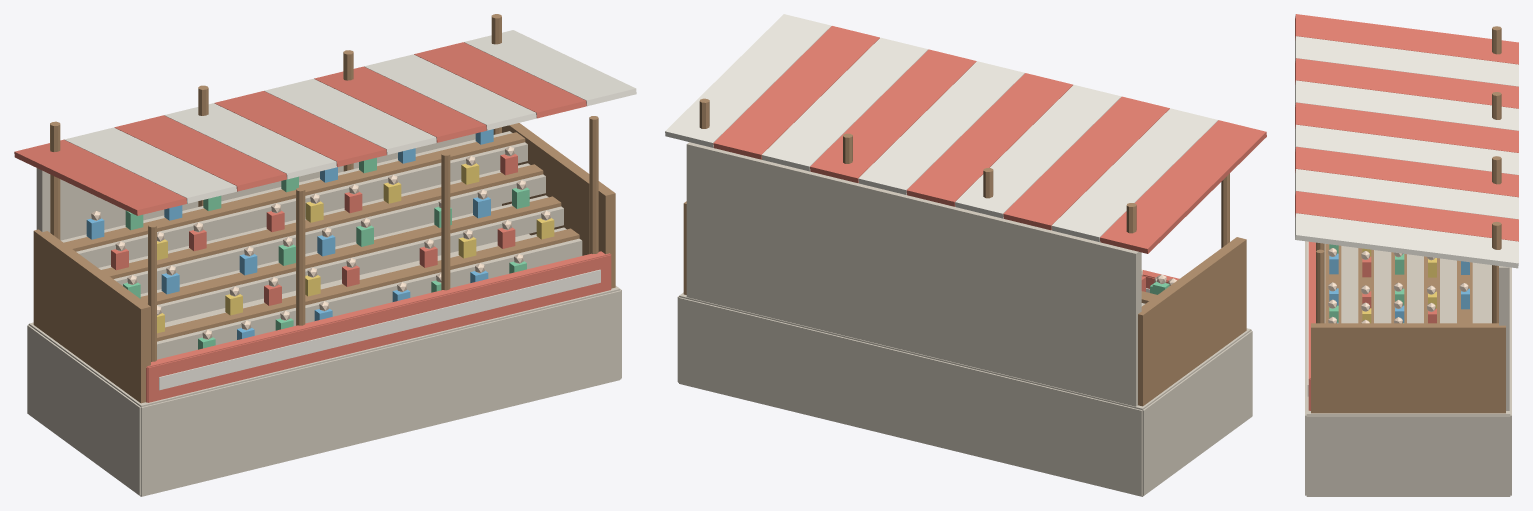
File: grandstand.glb
The picture shows the model from 3 angles, left to right: view 1: azimuth 30°, elevation 25°; view 2: azimuth 150°, elevation 25°; view 3: azimuth 270°, elevation 25°; orthographic projection. The views are drawn at different scales.
Parts seen in each view (by area): view 1: GrandstandMesh; view 2: GrandstandMesh; view 3: GrandstandMesh.
Part boxes in pixels (x1=…): GrandstandMesh: x1=14, y1=14, x2=636, y2=496; GrandstandMesh: x1=665, y1=14, x2=1266, y2=496; GrandstandMesh: x1=1295, y1=14, x2=1518, y2=496.
Size of the model in its own units: 17.18 by 9.66 by 7.35.
